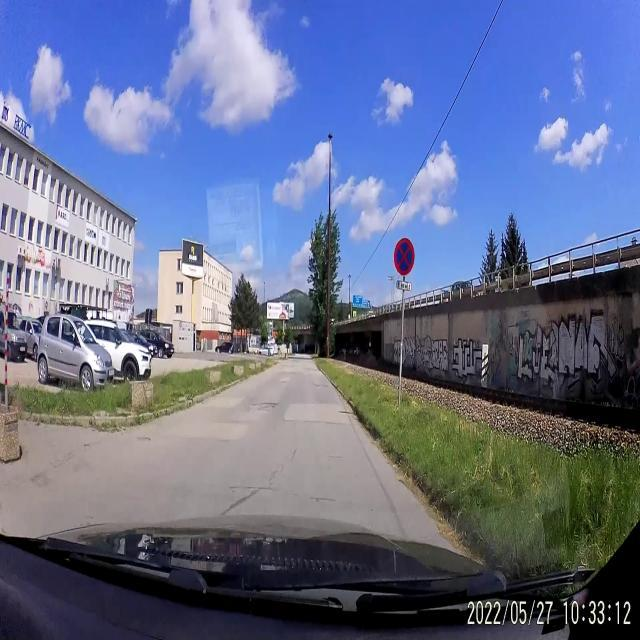Pothole: (250, 398, 278, 418), (136, 432, 152, 446)
